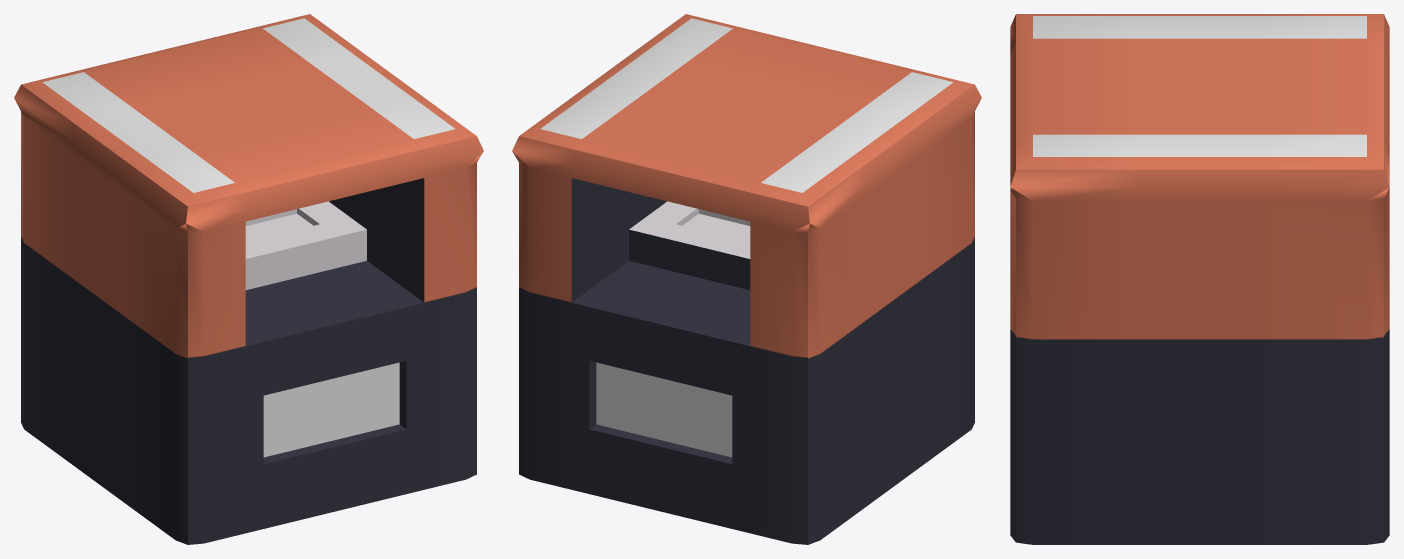
Rendered from Ensambladora_Prefab.fbx.
3 renders of one model, left to right at view 1: azimuth 30°, elevation 25°; view 2: azimuth 150°, elevation 25°; view 3: azimuth 270°, elevation 25°, orthographic. The views are drawn at different scales.
Parts seen in each view (by area): view 1: Box001; view 2: Box001; view 3: Box001.
Boxes of the visible parts, box(x1,y1,x2,y2) form: Box001: box(14, 14, 483, 544); Box001: box(512, 14, 981, 544); Box001: box(1010, 14, 1389, 544).
Size of the model in its own units: 50 by 55 by 50.
2 materials, 1 textured.
